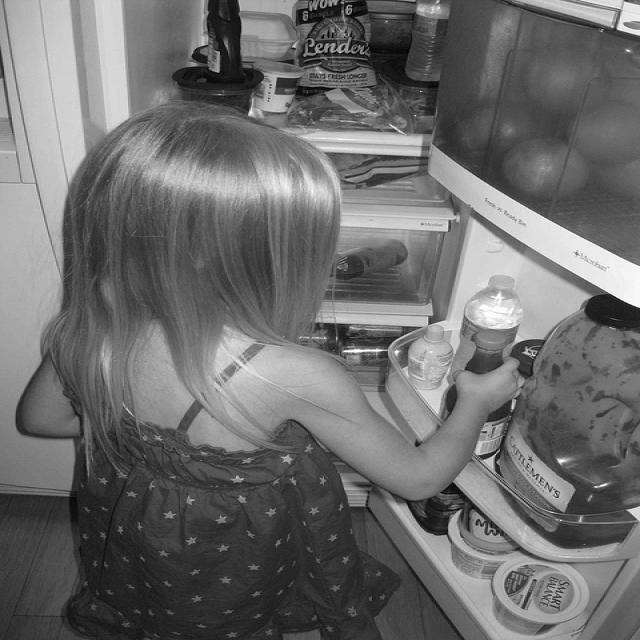monkey: (20, 101, 527, 640)
